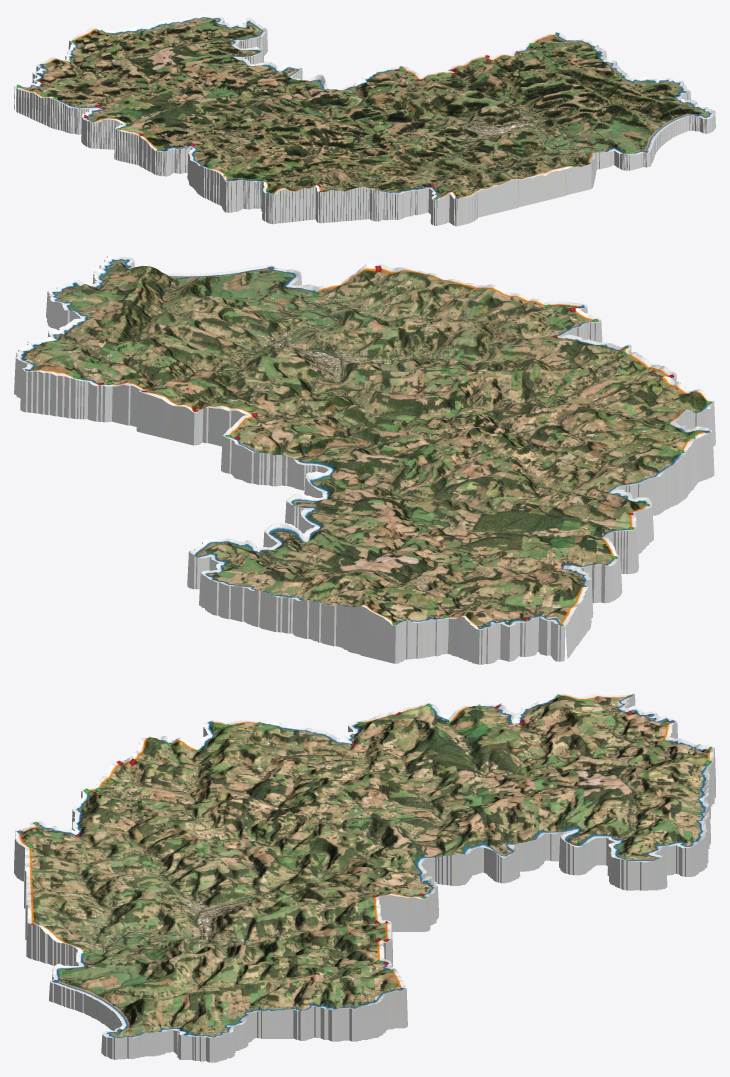
3 views of the same model, one above another, from view 1: azimuth 30°, elevation 25°; view 2: azimuth 150°, elevation 25°; view 3: azimuth 270°, elevation 25° (orthographic). The views are drawn at different scales.
Size of the model in its own units: 1 by 0.0627 by 0.8806.
1 material, 1 textured.
